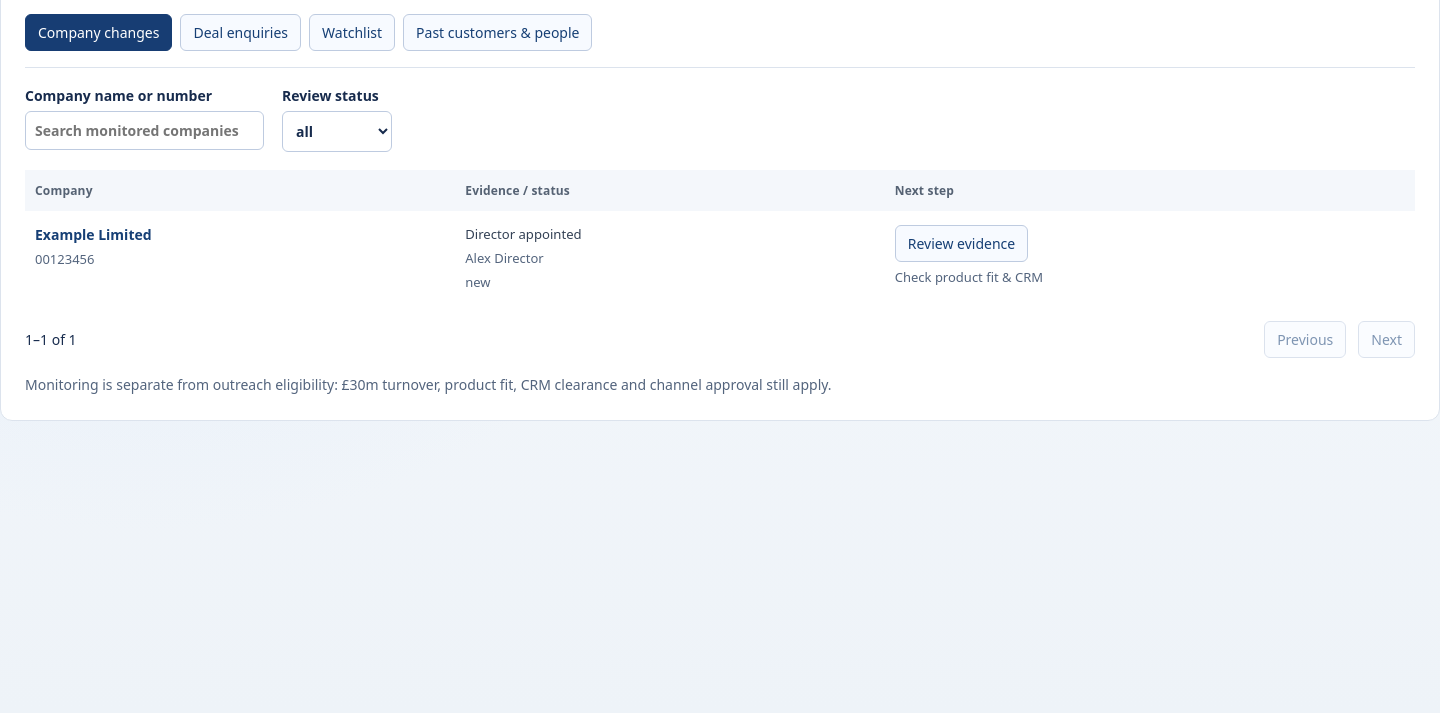
Test: Unified monitoring workspace › keeps review notes mandatory and shows stale-write conflicts without reporting success
The image size is (1440, 713).
Step 1. Click the button "Example Limited" → (93,234), box [35,225,152,244]
(page scrolled)
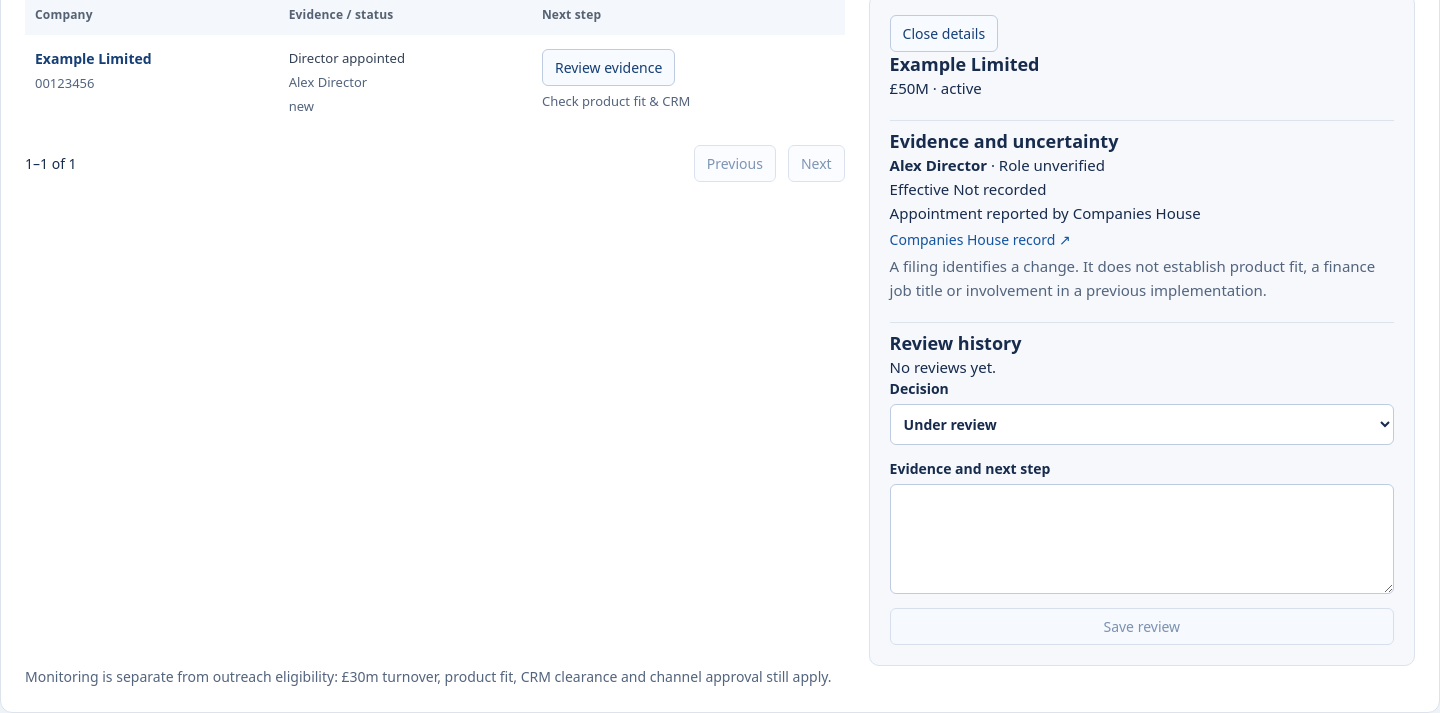
Now the button "Save review" is disabled, box [890,608,1394,645]
Step 2. Type "Verify role before contacting" into the text box labelled "Evidence and next step" → (1142,539), box [890,484,1394,594]
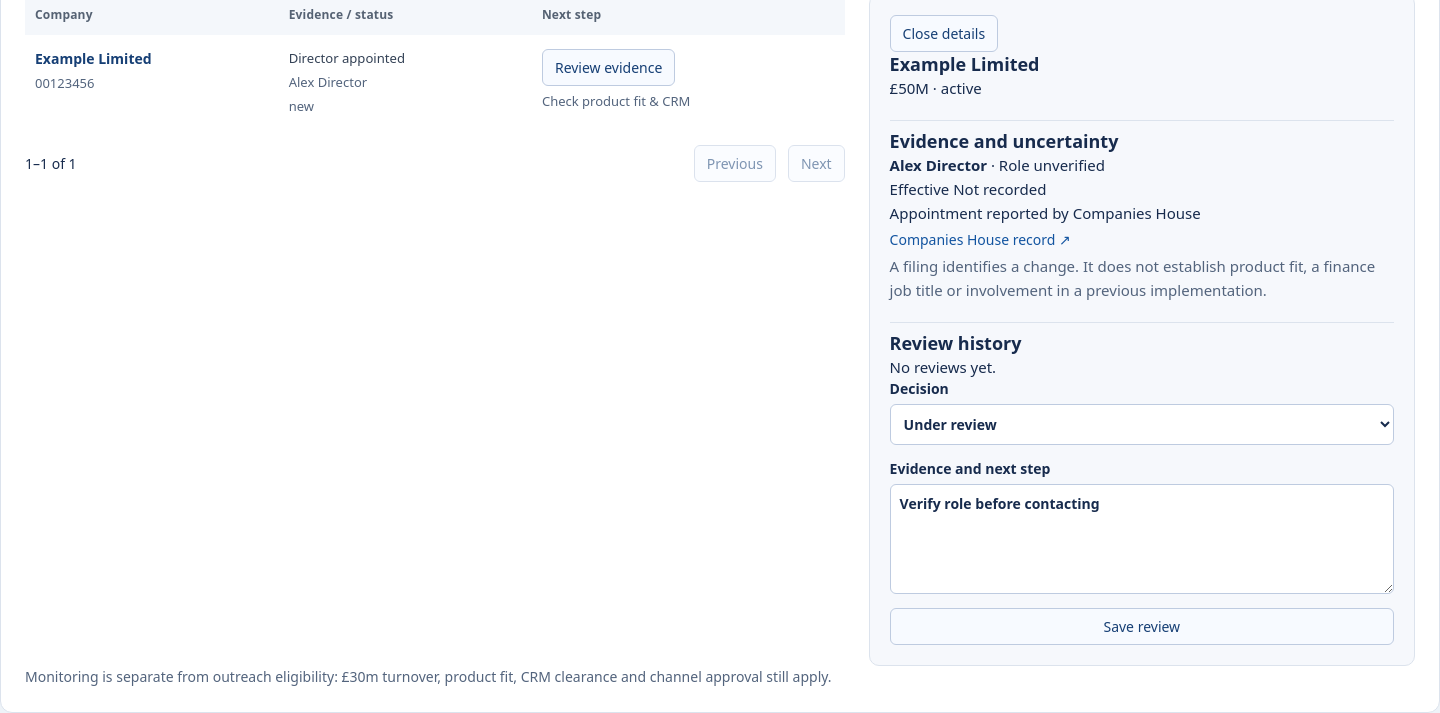
Step 3. Click the button "Save review" → (1142,626), box [890,608,1394,645]
(page scrolled)
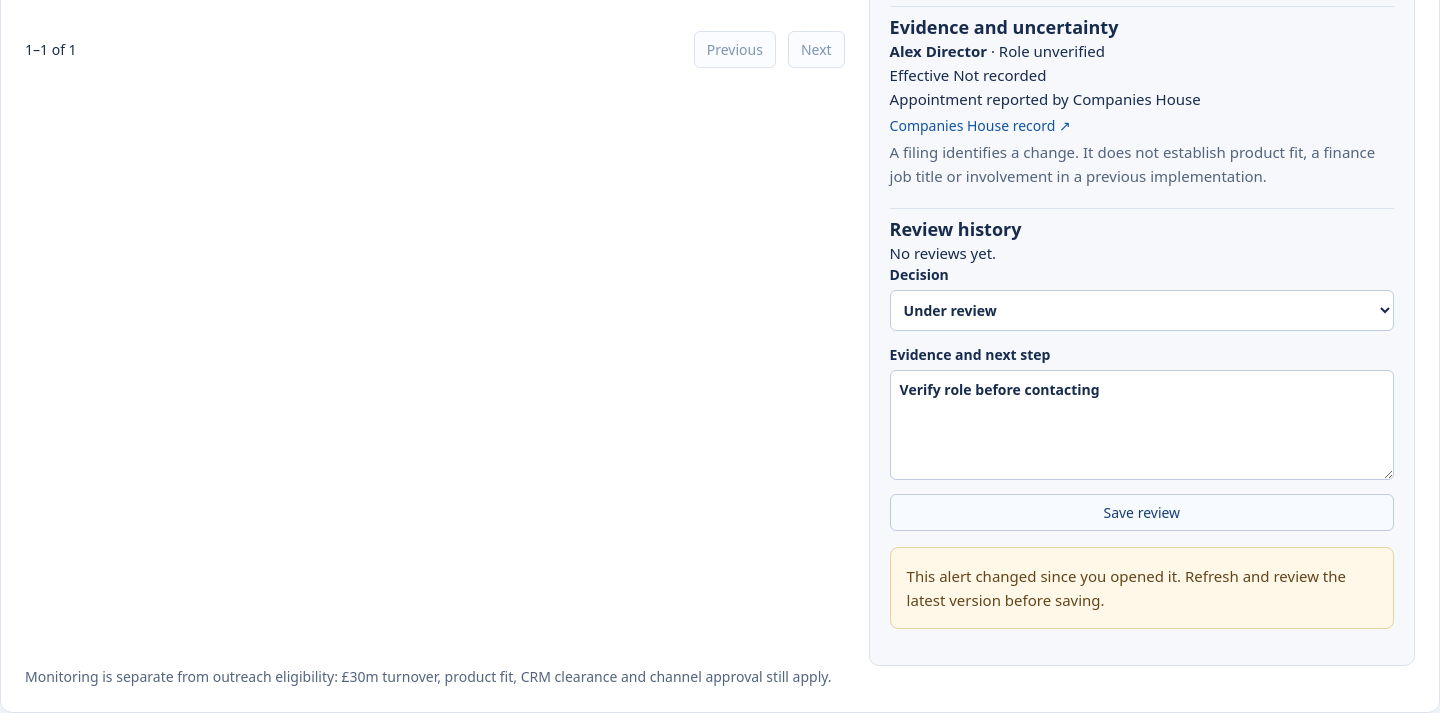
Now the message shows "This alert changed", box [907,566,1346,610]
